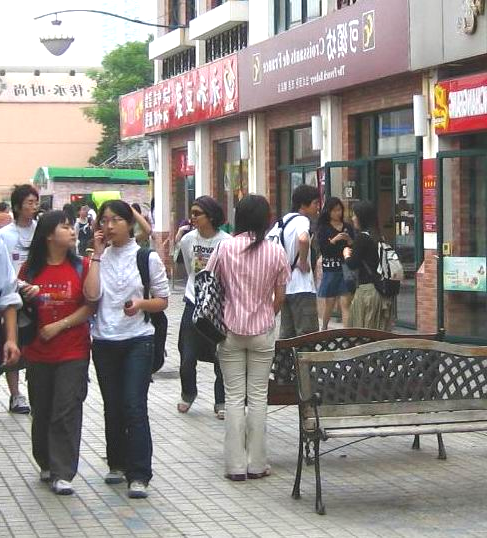pedestrian: (193, 197, 290, 481), (84, 200, 169, 499), (18, 211, 93, 495)
